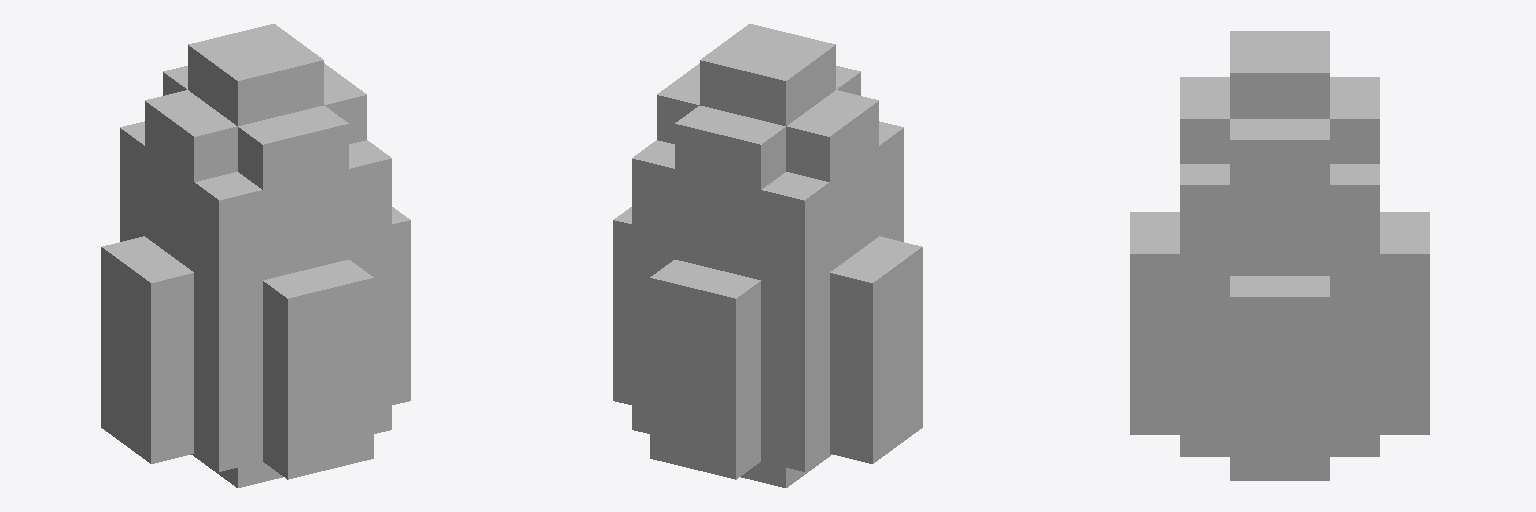
File: bush-2.obj
3 renders of one model, left to right at view 1: azimuth 30°, elevation 25°; view 2: azimuth 150°, elevation 25°; view 3: azimuth 270°, elevation 25°, orthographic.
Parts seen in each view (by area): view 1: object 1; view 2: object 1; view 3: object 1.
Boxes of the visible parts, x1,y1,x2,y2 form: object 1: [101, 24, 410, 487]; object 1: [613, 24, 922, 487]; object 1: [1130, 31, 1429, 480].
Size of the model in its own units: 0.6 by 0.9 by 0.6.